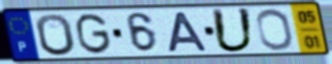6: (125, 12, 160, 55)
A: (166, 10, 211, 54)
G: (75, 12, 114, 56)
O: (34, 12, 78, 58), (254, 8, 296, 52)
U: (209, 7, 257, 55)
